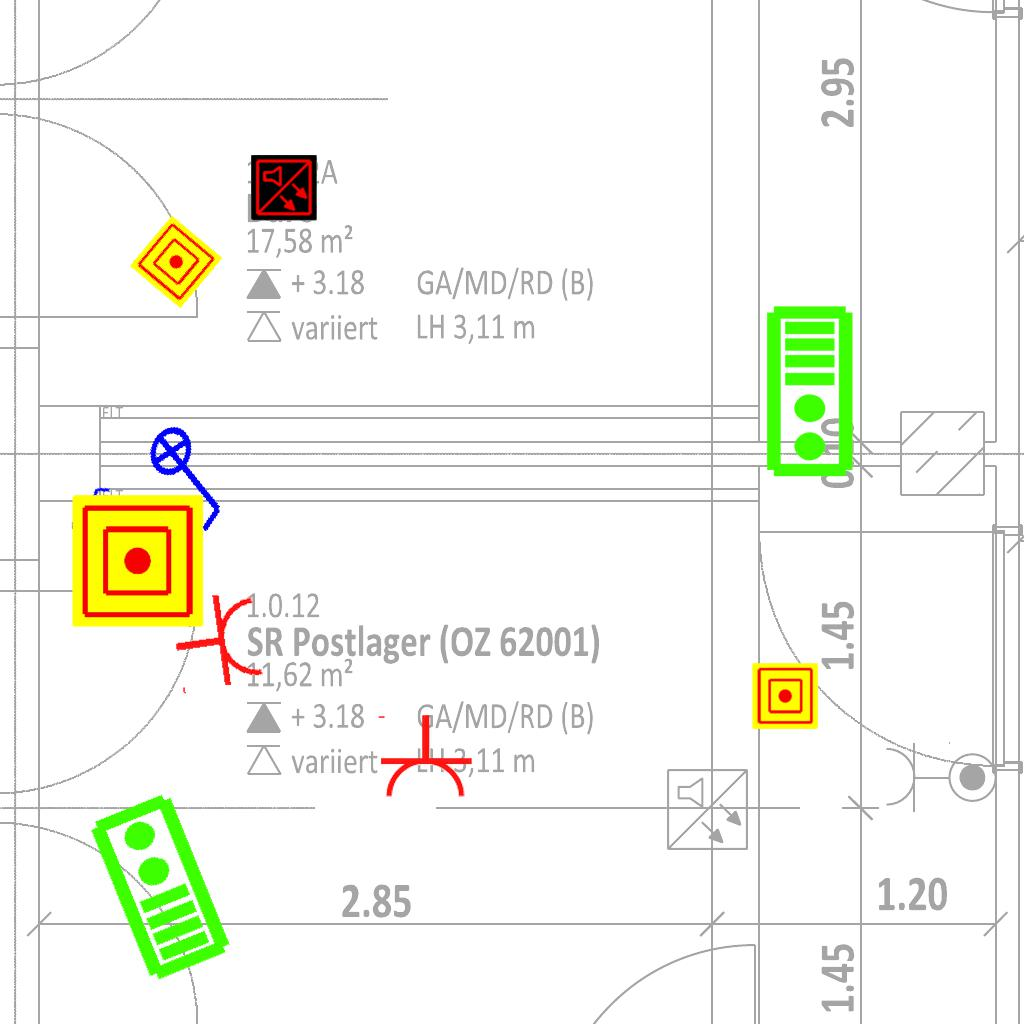Ausschalter_beleuchtet: (126, 407, 254, 545), (57, 480, 123, 540)
Gegensprechanlage_mit_Video: (81, 787, 236, 987), (764, 304, 859, 480)
NAM-Nichtautomatischer_Melder: (72, 495, 204, 627), (129, 215, 223, 309), (752, 663, 818, 729)
OKW_Multisensormelder_(Kombination_optischer_Rauch-Kahlenmonoxid_Waerme-Melder): (251, 155, 317, 221)
Schukosteckdose_einfach: (167, 587, 268, 699), (374, 713, 474, 800)
